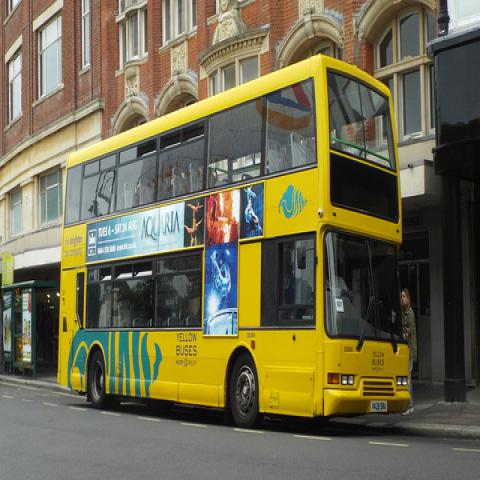bus: (58, 53, 412, 431)
